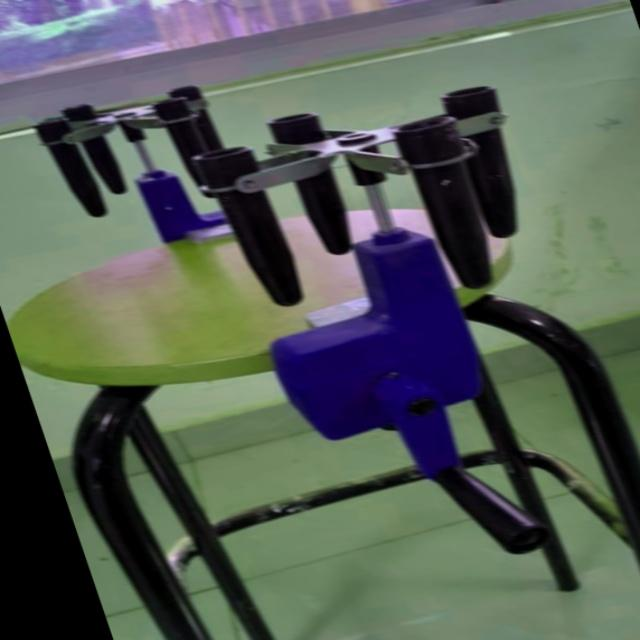Centrifuge: (4, 33, 640, 603)
